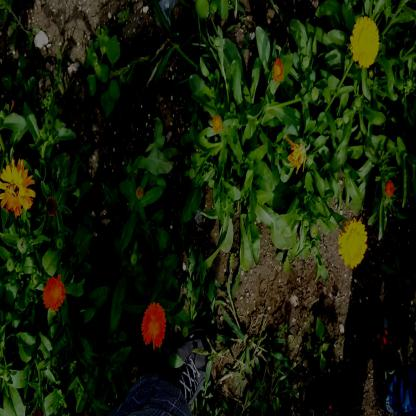marigold: (0, 158, 34, 212), (351, 16, 379, 68), (140, 304, 166, 349), (341, 223, 366, 269), (42, 277, 64, 312)
